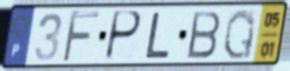3: (33, 11, 64, 62)
B: (185, 10, 223, 61)
F: (60, 9, 101, 65)
L: (143, 11, 172, 60)
P: (102, 9, 144, 63)
Q: (221, 7, 258, 62)
